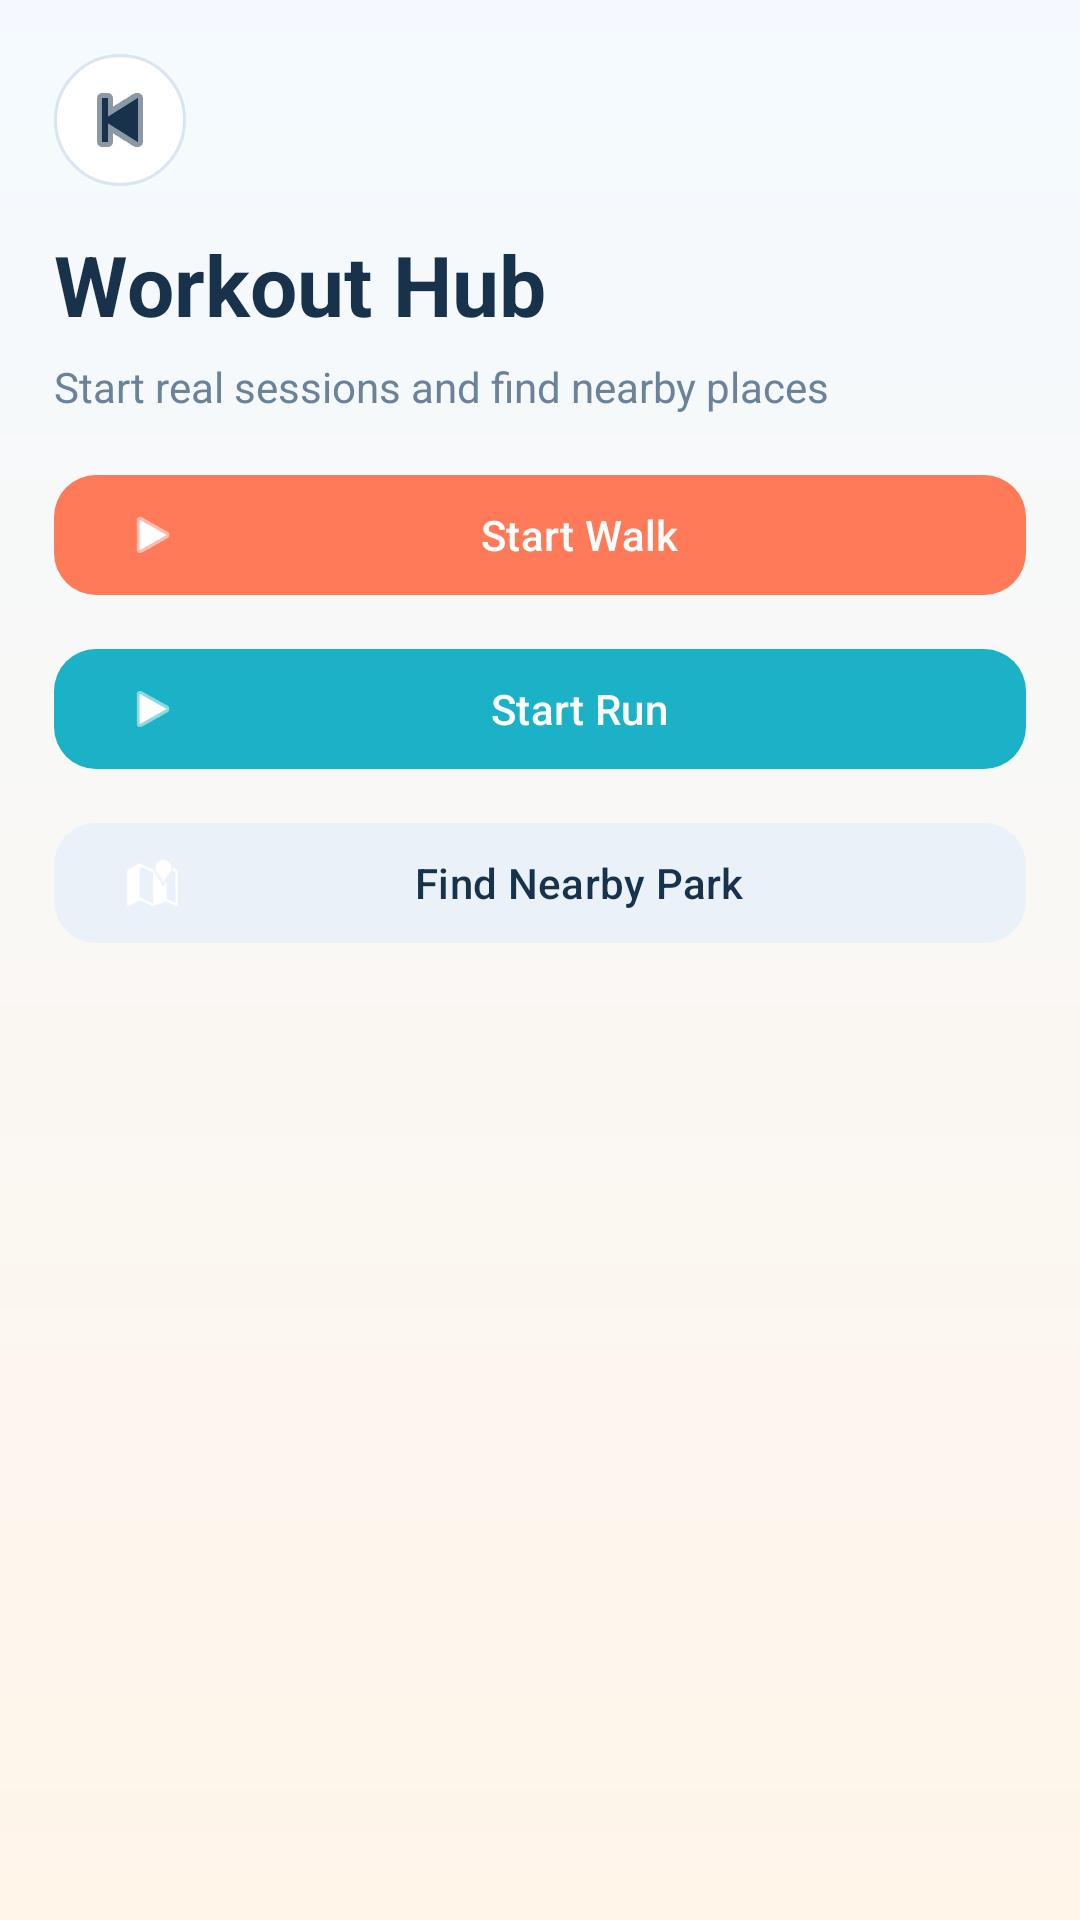

Icons on this 1080*1920 Android screen, each with the point to tap as point (x, y):
previous: point (120, 120)
